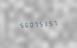five: (17, 21, 21, 29), (47, 19, 51, 27), (37, 20, 41, 27)
seven: (32, 20, 36, 28), (52, 19, 56, 26)
six: (22, 21, 26, 28)
three: (42, 19, 46, 27)
zero: (27, 20, 31, 28)
